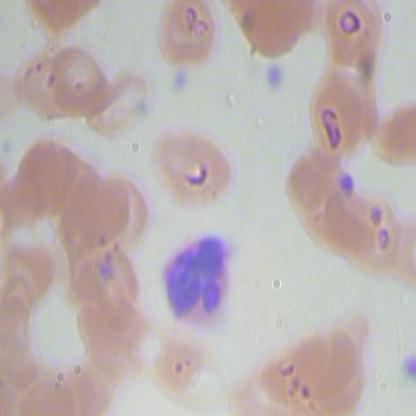Platelets: (261, 62, 286, 98), (170, 64, 195, 100)
RBC: (150, 124, 232, 211), (306, 69, 371, 164), (13, 134, 78, 222), (154, 1, 226, 73), (87, 68, 159, 140), (265, 332, 326, 405), (151, 326, 211, 400), (69, 176, 129, 249), (300, 324, 360, 397), (52, 46, 112, 118), (322, 1, 384, 68), (246, 1, 313, 62)
WBC: (156, 227, 235, 337)
